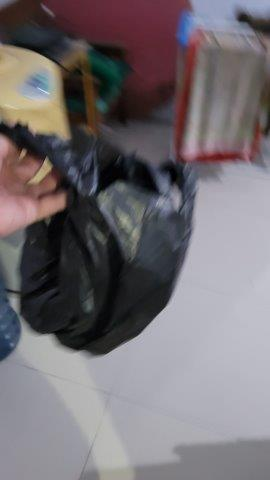plastik: (1, 116, 199, 359)
